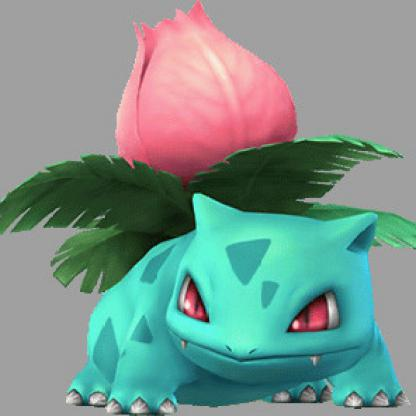Ivysaur: (1, 8, 416, 416)
